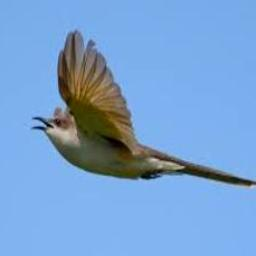Cuckoo: (31, 30, 256, 188)
